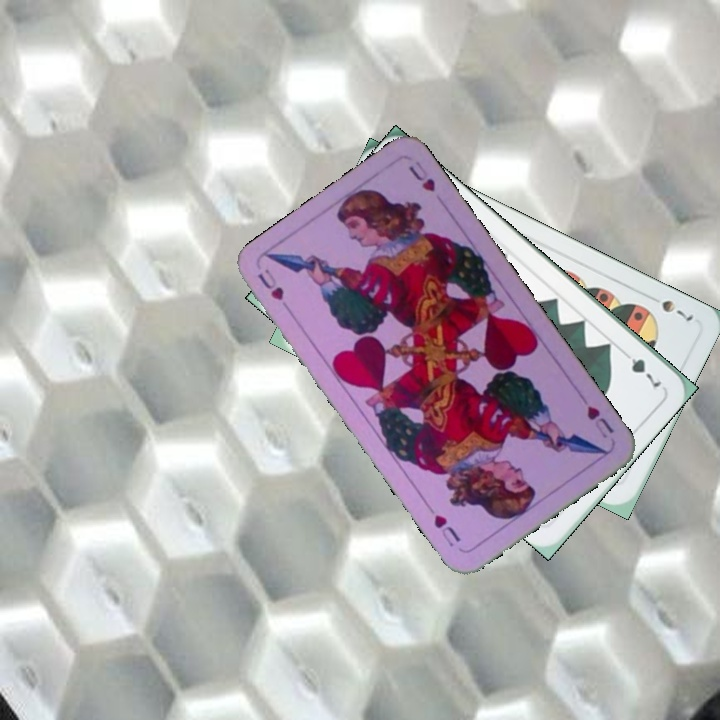G7: (617, 345, 664, 390)
HU: (582, 402, 617, 442), (253, 265, 287, 303)
S7: (643, 290, 697, 324)
